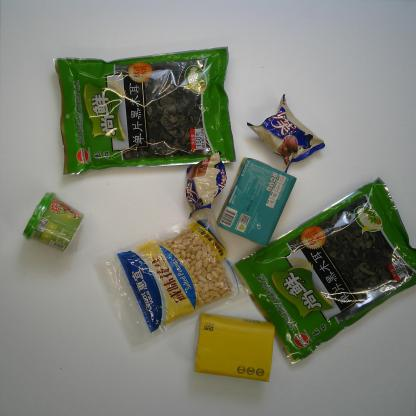Dessert: (246, 93, 325, 174), (185, 150, 227, 221)
Dried Food: (231, 174, 416, 367), (52, 46, 238, 176)
Dried Fruit: (94, 211, 252, 350)
Instant Drink: (22, 191, 85, 254)
Tissue: (217, 157, 298, 249), (192, 312, 275, 384)
